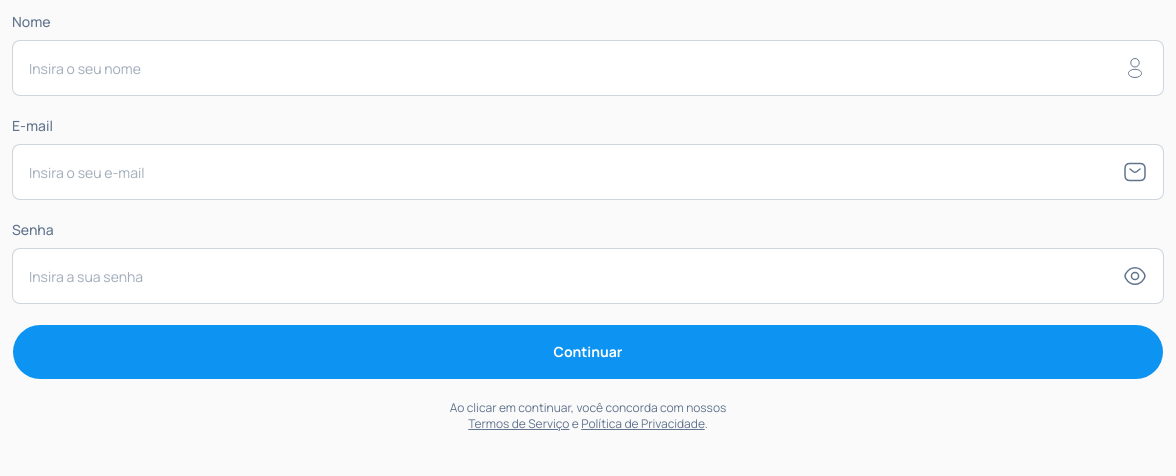
RegisterForm › shows error for password shorter than 4 characters
In the field with placeholder "Insira o seu nome": (576, 68) [29,41,1123,95], type "André"
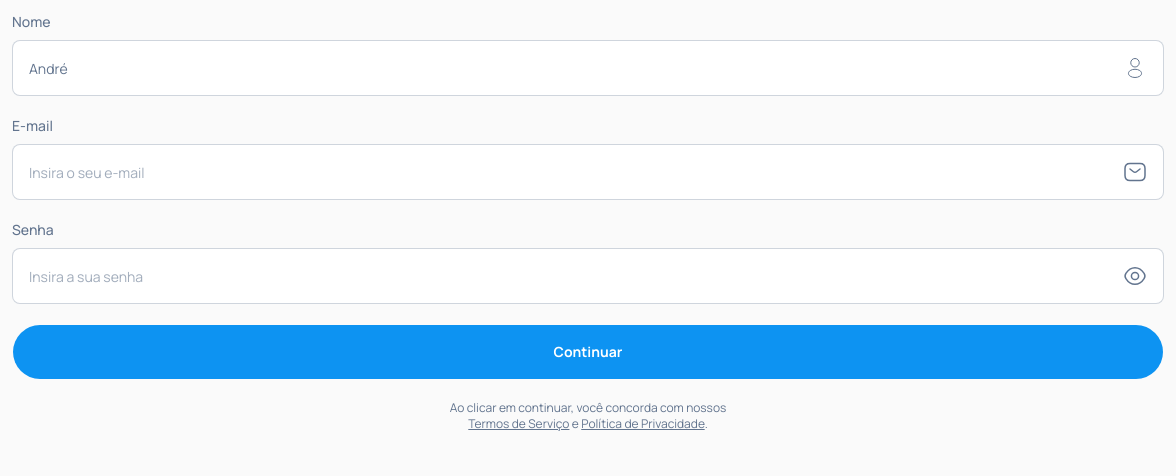
In the field with placeholder "Insira o seu e-mail": (576, 172) [29,145,1123,199], type "andre@email.com"
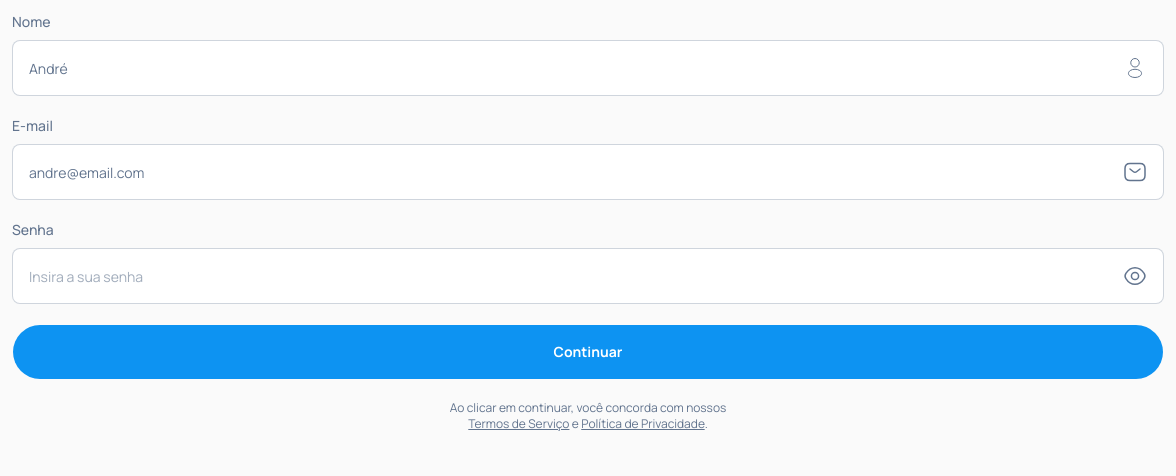
In the password field with placeholder "Insira a sua senha": (576, 276) [29,249,1123,303], type "123"
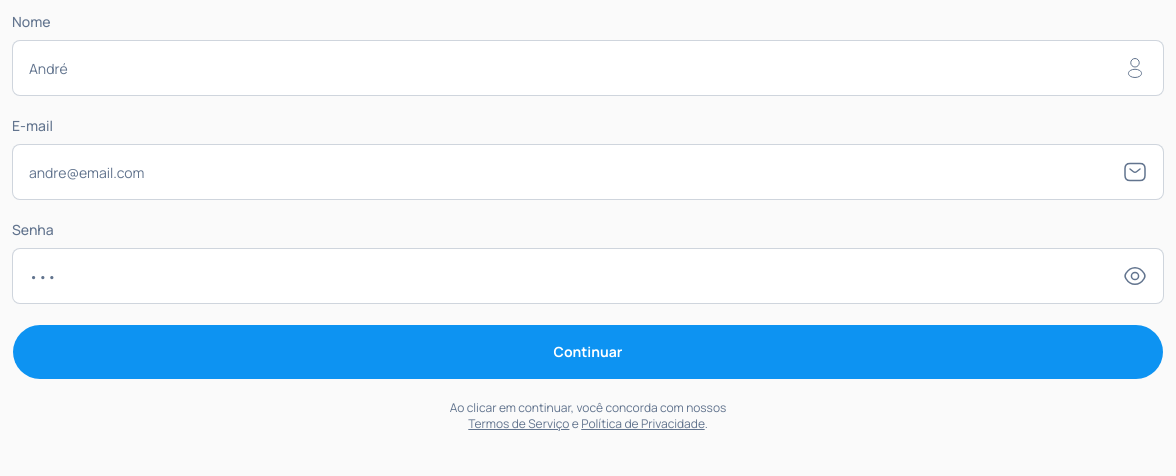
Click the button "Continuar": (588, 352) [12,324,1164,380]
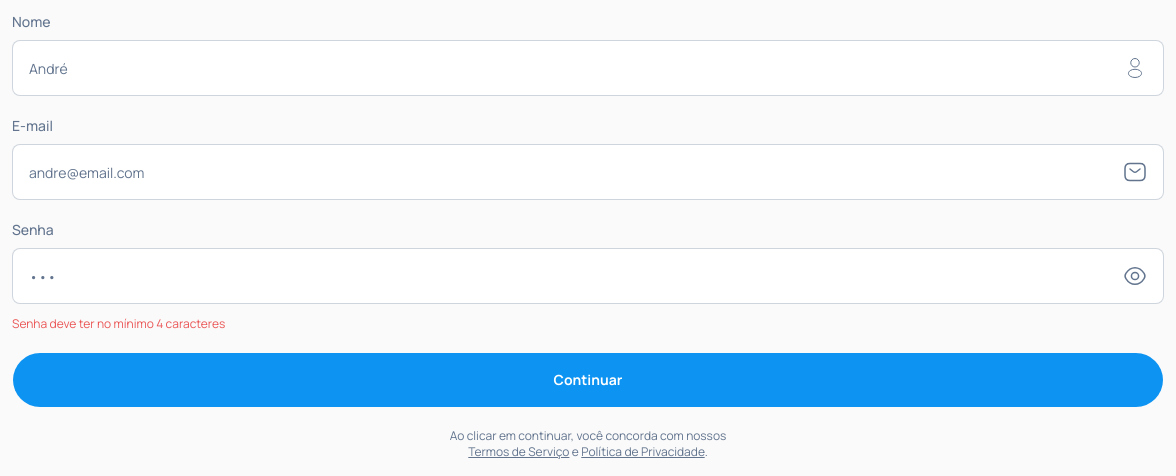
Expected: the text "Senha deve ter no mínimo 4 caracteres" is shown, [12,315,225,332]
